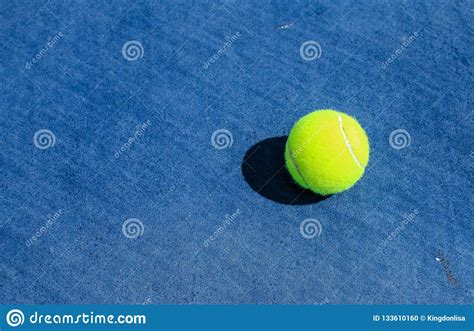tennis_ball: (283, 108, 370, 196)
